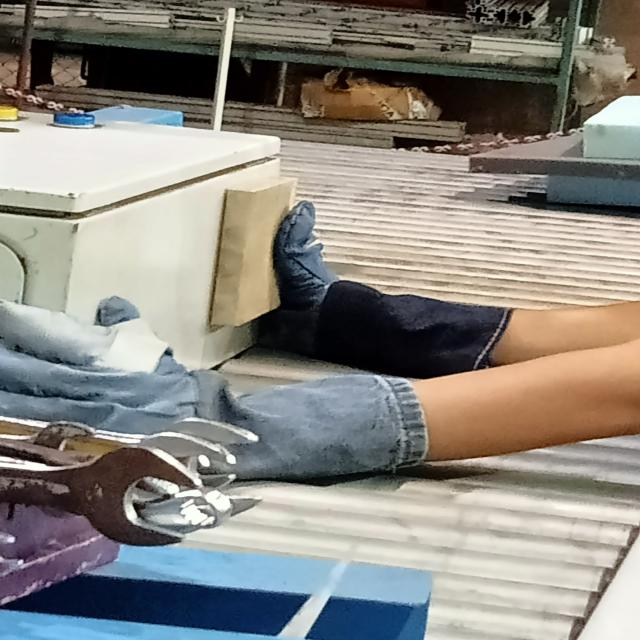Gloves-Detection: (1, 300, 412, 474), (289, 201, 495, 366)
